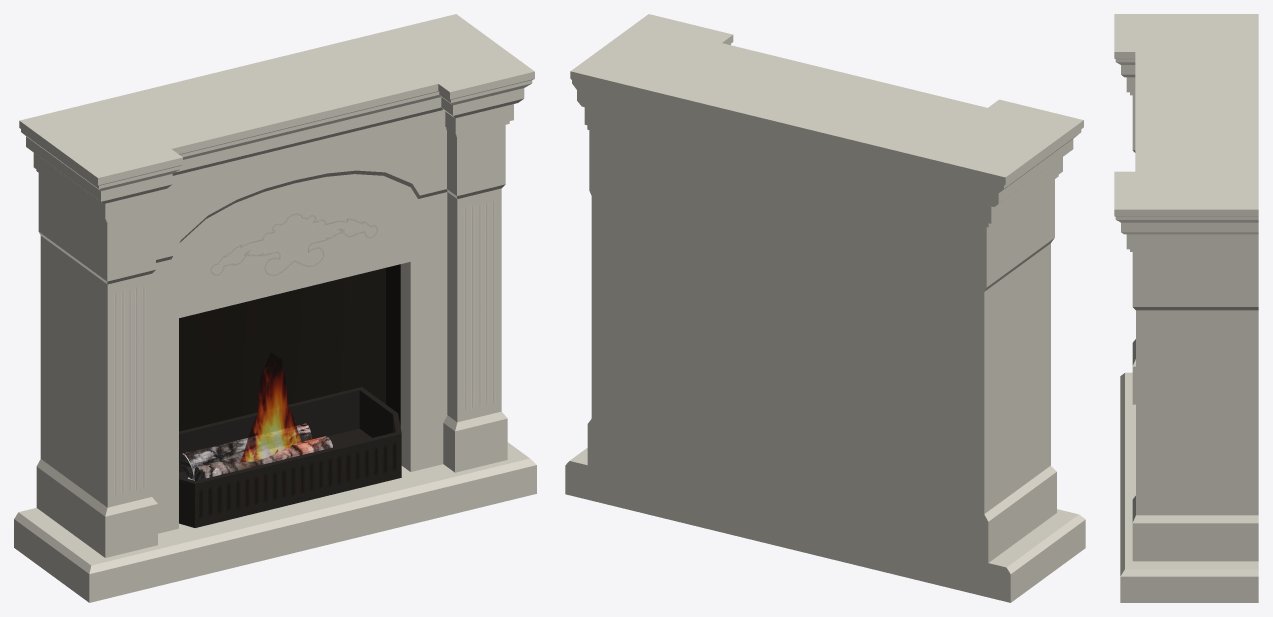
File: fireplace1.obj
3 views of the same model, side by side, from view 1: azimuth 30°, elevation 25°; view 2: azimuth 150°, elevation 25°; view 3: azimuth 270°, elevation 25° (orthographic). The views are drawn at different scales.
Parts seen in each view (by area): view 1: Cube, Cube.001_Cube.002; view 2: Cube; view 3: Cube.
Boxes of the visible parts, <box> form: Cube: <box>14,14,536,602</box>; Cube.001_Cube.002: <box>180,353,332,480</box>; Cube: <box>565,14,1085,602</box>; Cube: <box>1114,14,1258,602</box>.
Bounding box in the file's own units: 115 × 105 × 35.14.
7 materials, 7 textured.
